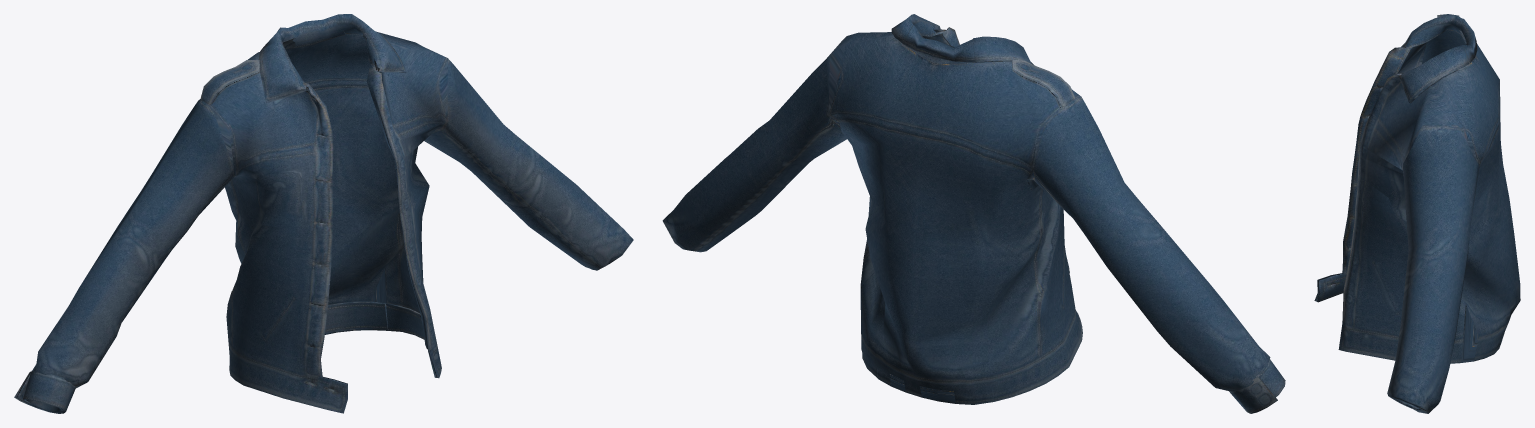
Rendered from shirt1.fbx.
The picture shows the model from 3 angles, left to right: view 1: azimuth 30°, elevation 25°; view 2: azimuth 150°, elevation 25°; view 3: azimuth 270°, elevation 25°; orthographic projection. The views are drawn at different scales.
Visible parts, largest first — view 1: polySurface102; view 2: polySurface102; view 3: polySurface102.
Part boxes in pixels (x1,y1,x2,y2): polySurface102: [14, 14, 633, 413]; polySurface102: [662, 14, 1285, 413]; polySurface102: [1314, 14, 1520, 413].
Size of the model in its own units: 89.81 by 48.17 by 29.36.
Materials: 1 (1 with a texture image).
